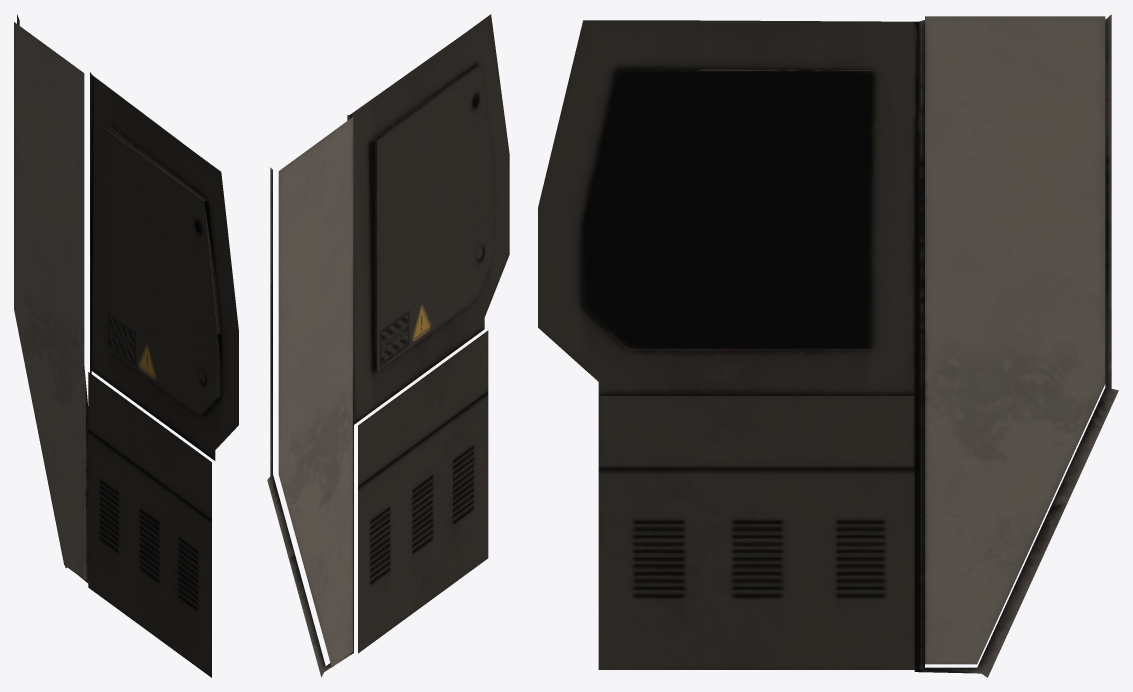
The model's file is left.gltf.
3 renders of one model, left to right at view 1: azimuth 30°, elevation 25°; view 2: azimuth 150°, elevation 25°; view 3: azimuth 270°, elevation 25°, orthographic. The views are drawn at different scales.
Parts seen in each view (by area): view 1: LEFT; view 2: LEFT; view 3: LEFT.
Part boxes in pixels (bbox=[...]): LEFT: bbox=[14, 14, 238, 677]; LEFT: bbox=[267, 14, 509, 677]; LEFT: bbox=[538, 14, 1118, 677].
Size of the model in its own units: 0.0262 by 1.73 by 1.37.
1 material, 1 textured.
